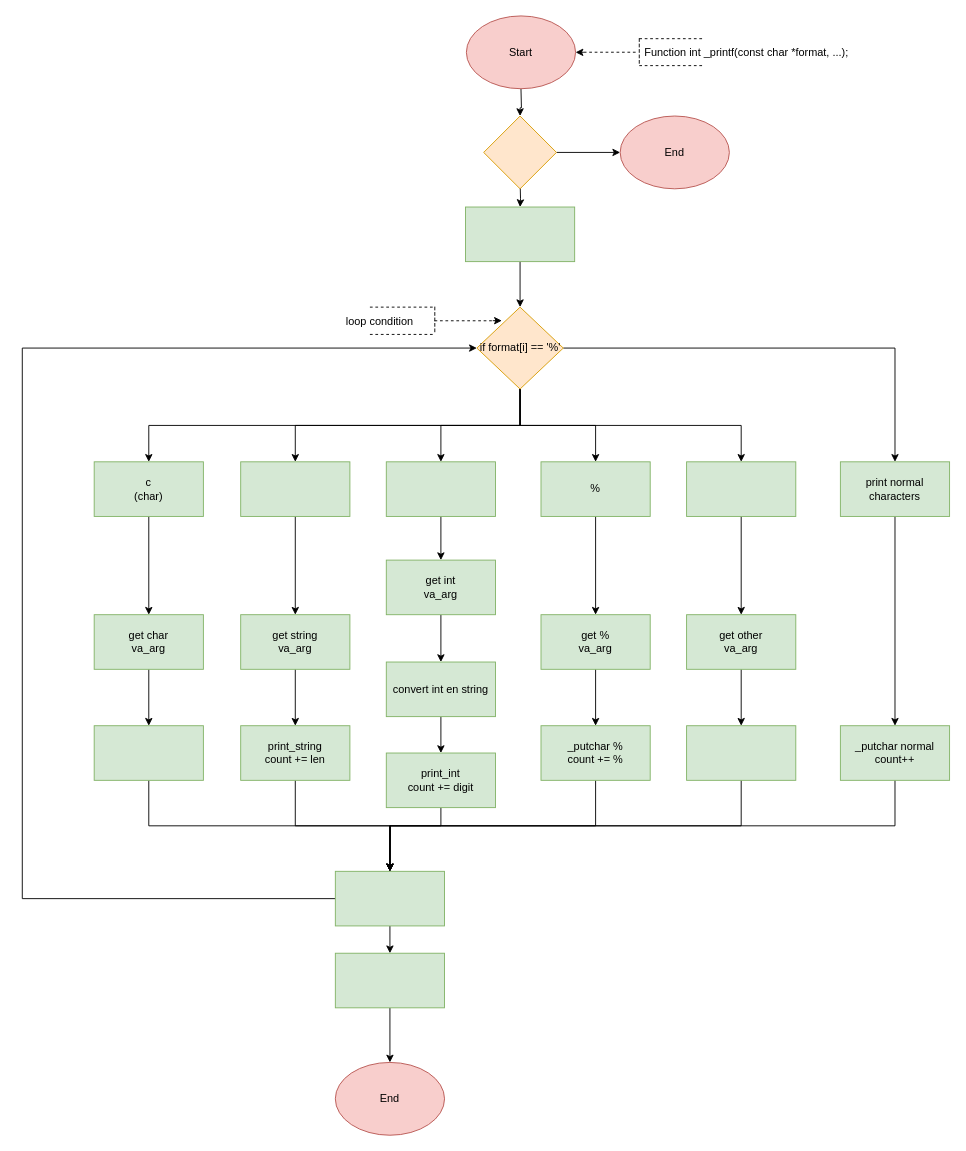
Some shapes in this 966 by 1151 pixel diagram are drawn without their labels. Each missing label, with the centre of its shape:
"_putchar specifier count += specifier" belongs at pixel 741 752.
"d/i (int)" belongs at pixel 440 488.
"end of loop va_end" belongs at pixel 389 980.
"format[i]++ and continu the loop" belongs at pixel 389 898.
"if != NULL" belongs at pixel 519 152.
"other" belongs at pixel 741 488.
"print_char count++" belongs at pixel 148 752.
"s (string)" belongs at pixel 295 488.
"Va_start" belongs at pixel 520 234.
